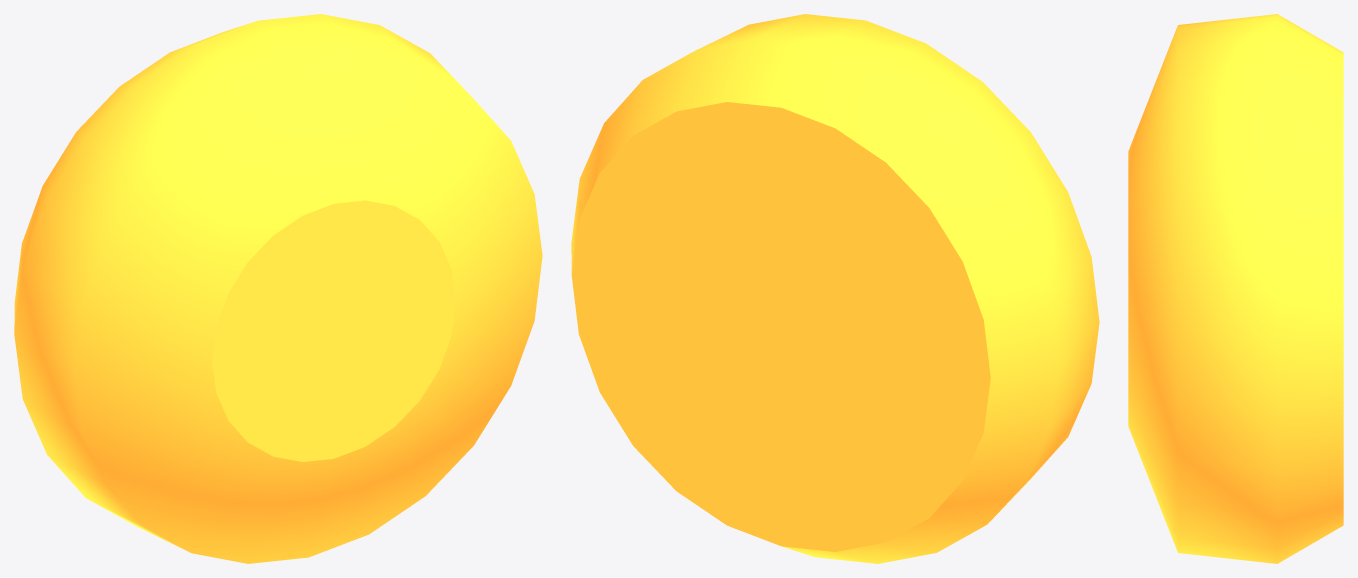
The model's file is SM_Substation_StatusLamp.glb.
3 renders of one model, left to right at view 1: azimuth 30°, elevation 25°; view 2: azimuth 150°, elevation 25°; view 3: azimuth 270°, elevation 25°, orthographic.
Parts seen in each view (by area): view 1: SM_Substation_StatusLamp; view 2: SM_Substation_StatusLamp; view 3: SM_Substation_StatusLamp.
Part boxes in pixels (left/top/right/bottom): SM_Substation_StatusLamp: left=14, top=14, right=542, bottom=563; SM_Substation_StatusLamp: left=571, top=14, right=1099, bottom=563; SM_Substation_StatusLamp: left=1128, top=14, right=1343, bottom=563.
Size of the model in its own units: 0.1 by 0.1 by 0.039.
